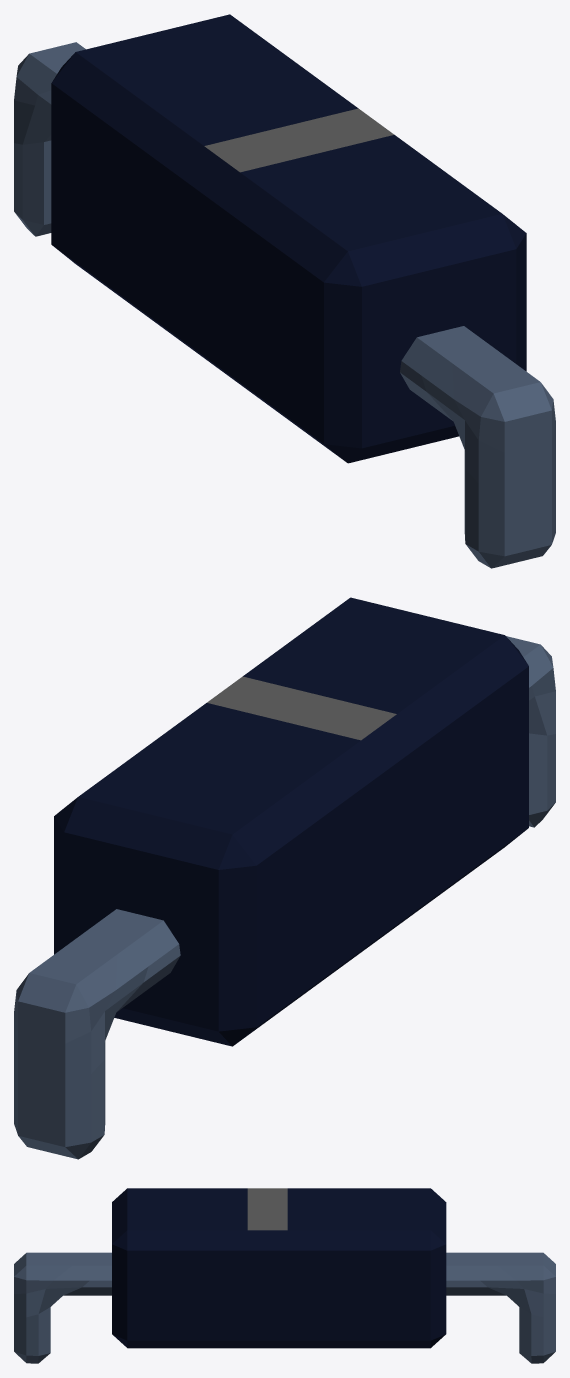
The picture shows the model from 3 angles, top to bottom: view 1: azimuth 30°, elevation 25°; view 2: azimuth 150°, elevation 25°; view 3: azimuth 270°, elevation 25°; orthographic projection. The views are drawn at different scales.
Visible parts, largest first — view 1: C 2; view 2: C 2; view 3: C 2.
Part boxes in pixels (x1,y1,x2,y2): C 2: (14, 14, 555, 568); C 2: (14, 597, 555, 1159); C 2: (14, 1188, 555, 1363).
Size of the model in its own units: 10.68 by 13.28 by 44.45.
